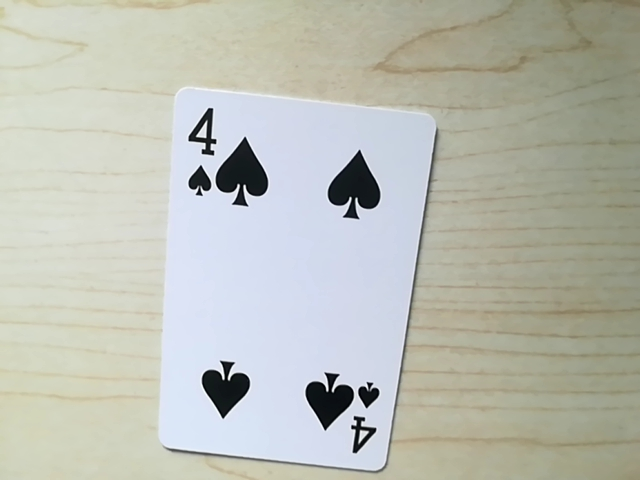ht 4: (177, 93, 237, 207), (341, 376, 382, 462)
